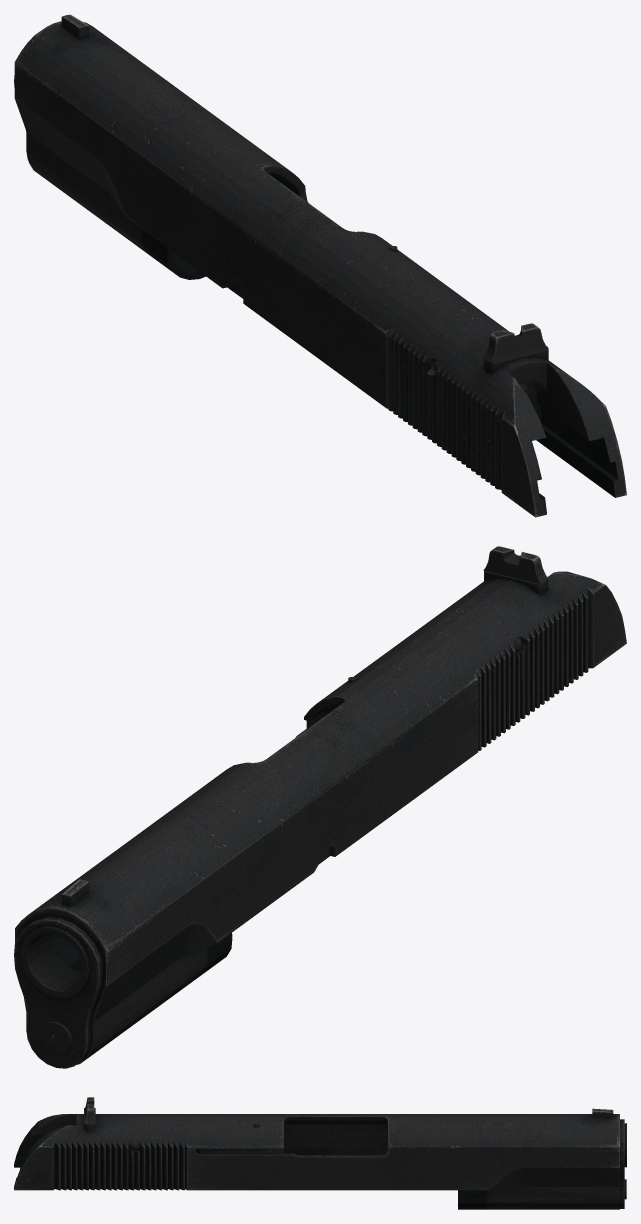
3 renders of one model, top to bottom at view 1: azimuth 30°, elevation 25°; view 2: azimuth 150°, elevation 25°; view 3: azimuth 270°, elevation 25°, orthographic. The views are drawn at different scales.
Parts seen in each view (by area): view 1: TW_571a12c42459771f627b58a0_PZ_Import; view 2: TW_571a12c42459771f627b58a0_PZ_Import; view 3: TW_571a12c42459771f627b58a0_PZ_Import.
Boxes of the visible parts, x1,y1,x2,y2 form: TW_571a12c42459771f627b58a0_PZ_Import: [14, 14, 626, 517]; TW_571a12c42459771f627b58a0_PZ_Import: [14, 546, 626, 1068]; TW_571a12c42459771f627b58a0_PZ_Import: [14, 1097, 626, 1209].
Bounding box in the file's own units: 0.0112 × 0.1111 × 0.0209.
1 material, 1 textured.
